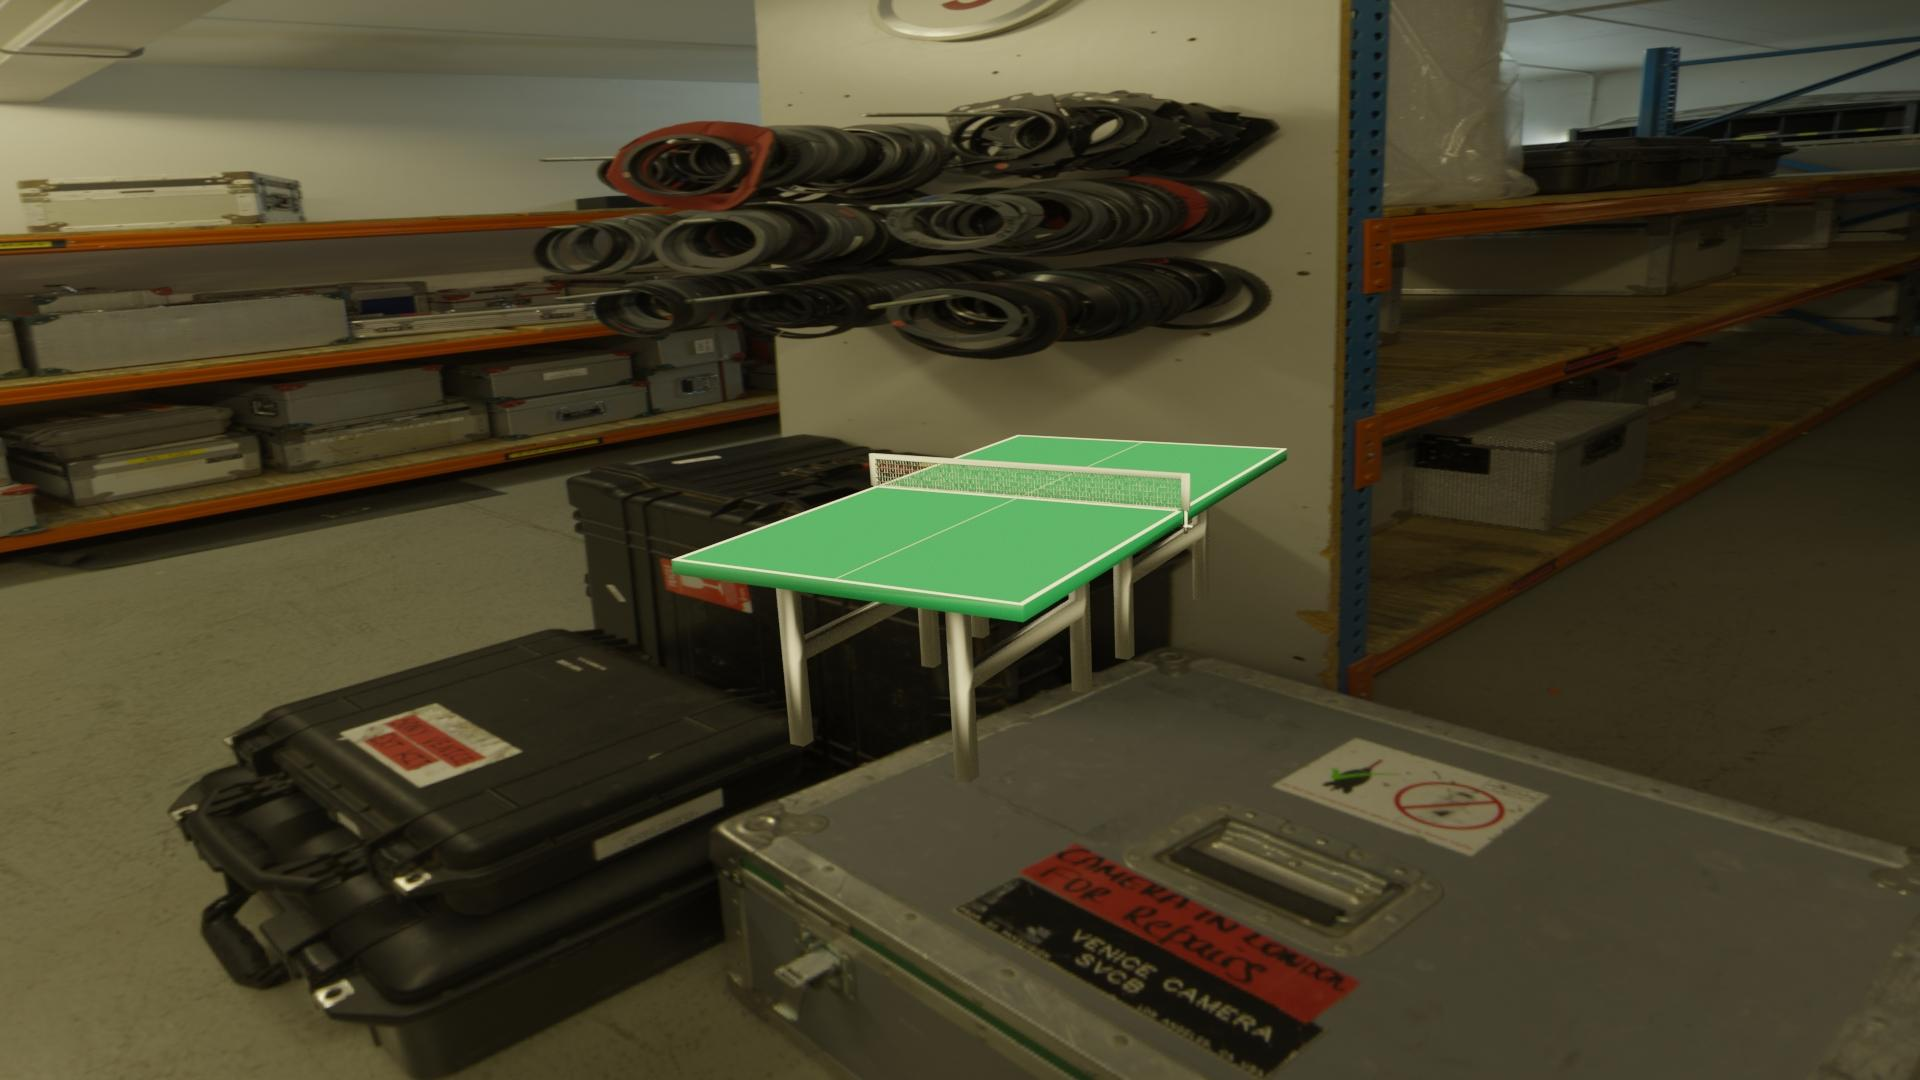table: (679, 436, 1282, 603)
